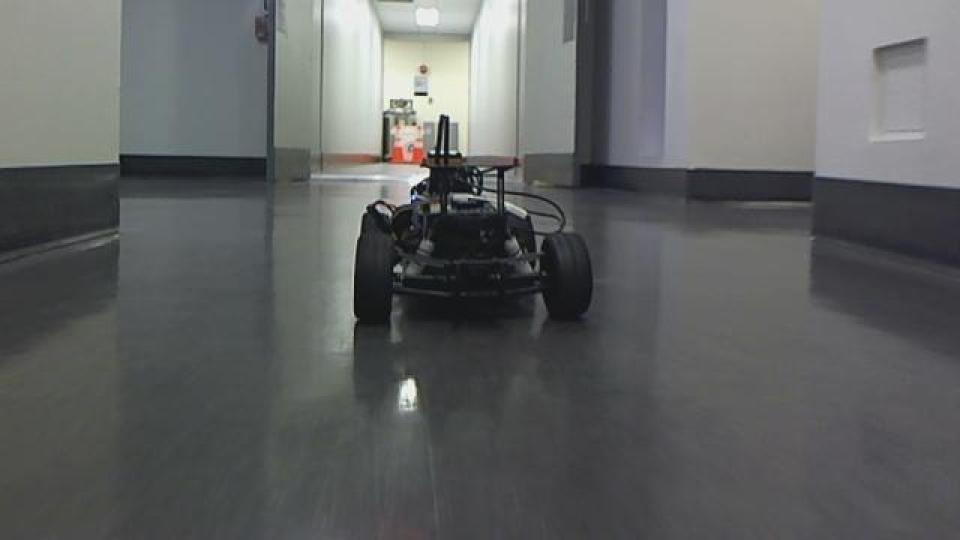car: (350, 114, 596, 326)
